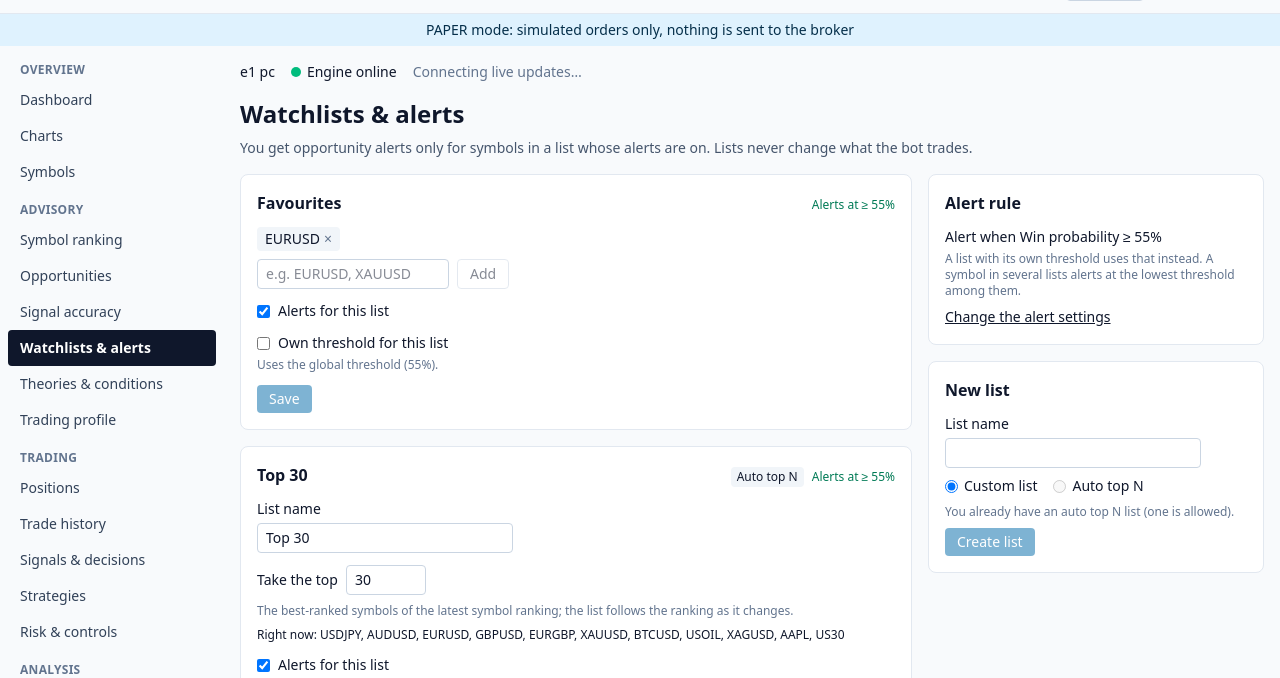
Test: watchlists page › creates a custom list and deletes a list after confirming
This screenshot has width=1280, height=678.
Check: the radio button labelled "Auto top N" is disabled, box left=1054, top=480, right=1066, bottom=492
Type "top 30" into the field labelled "List name" below "New list" at {"x": 1073, "y": 453}, box left=945, top=438, right=1201, bottom=468
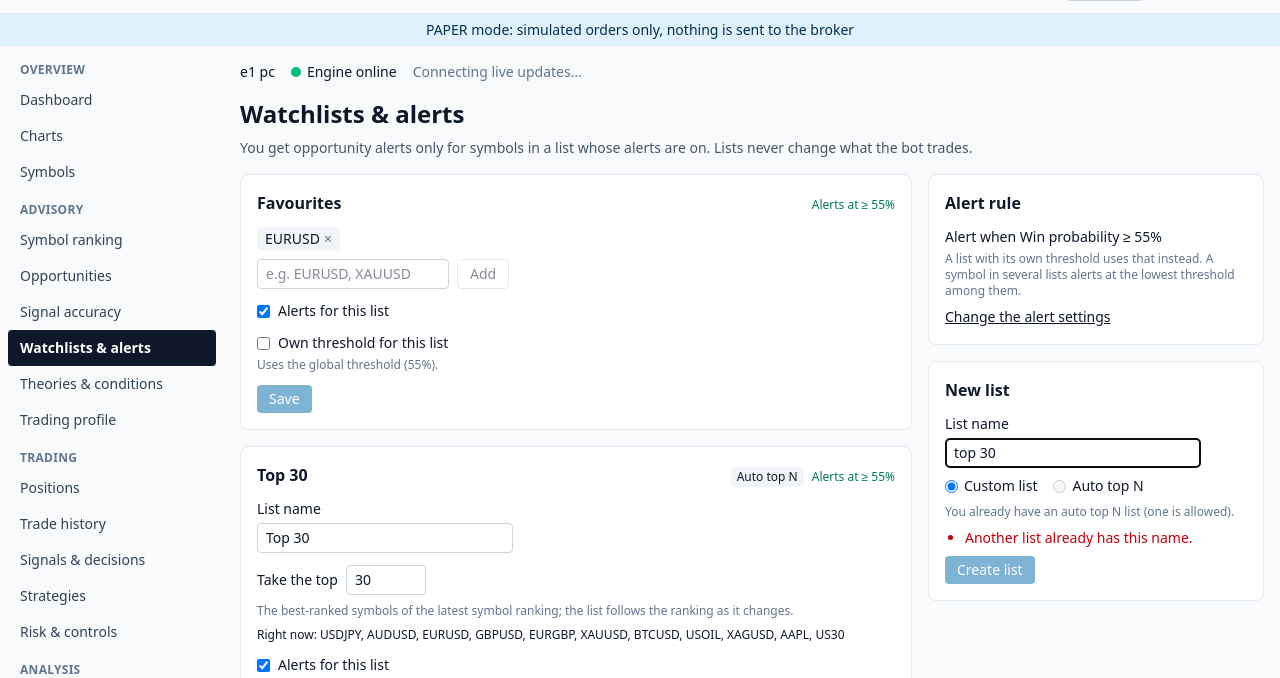
Check: the list item "Another list already has this name." is shown, box left=965, top=528, right=1193, bottom=547
Replace the text in the field labelled "List name" below "New list" with " Metals " at {"x": 1073, "y": 453}, box left=945, top=438, right=1201, bottom=468
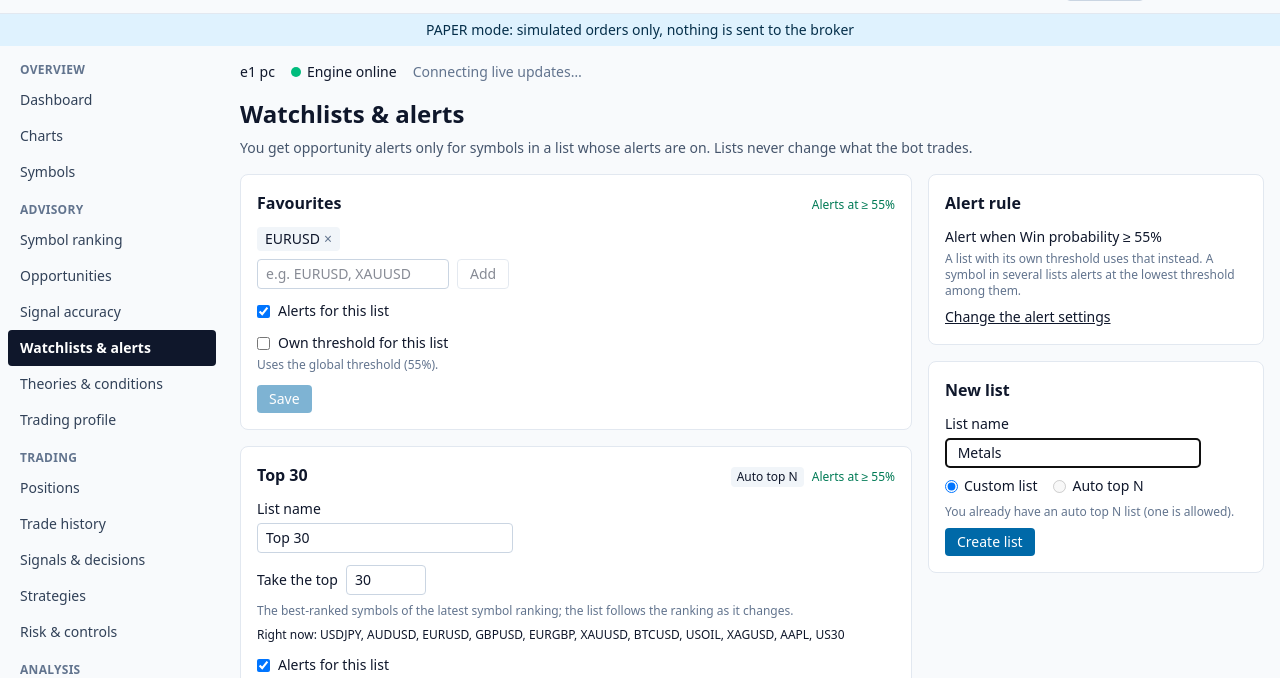
Click the button "Create list" at {"x": 990, "y": 542}, box left=945, top=528, right=1035, bottom=556
(page scrolled)
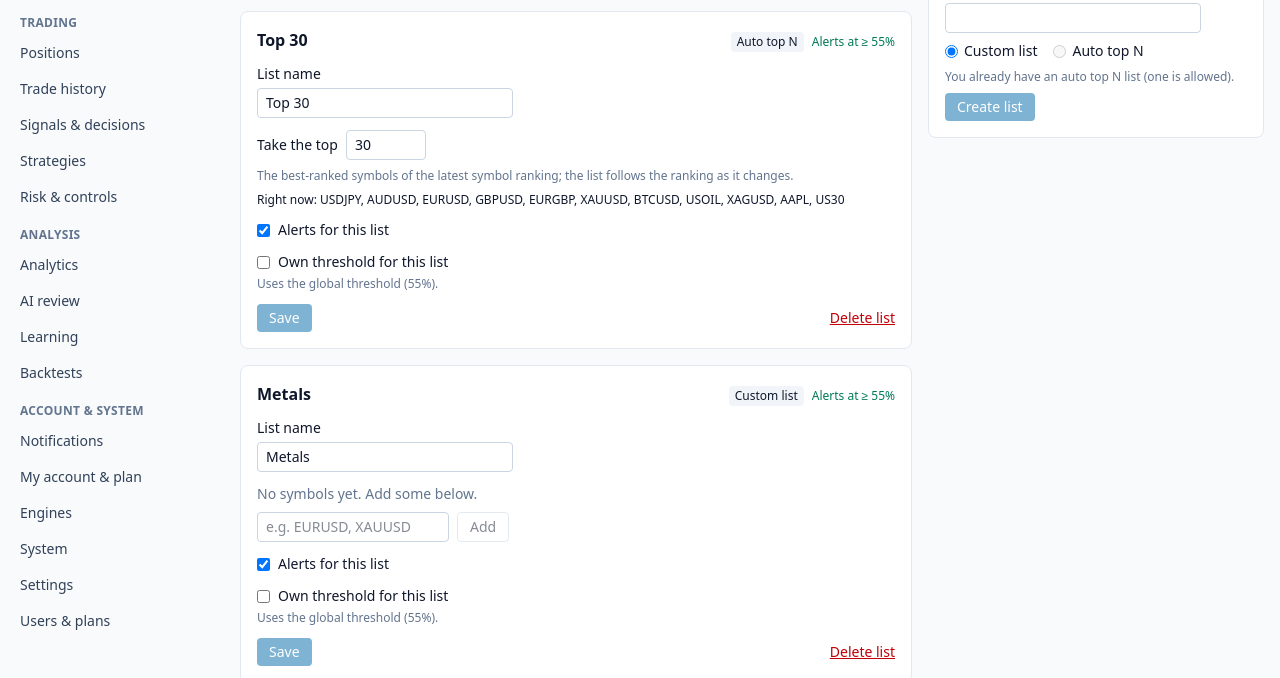
Click the 1st button "Delete list" at {"x": 862, "y": 318}, box left=830, top=308, right=895, bottom=328
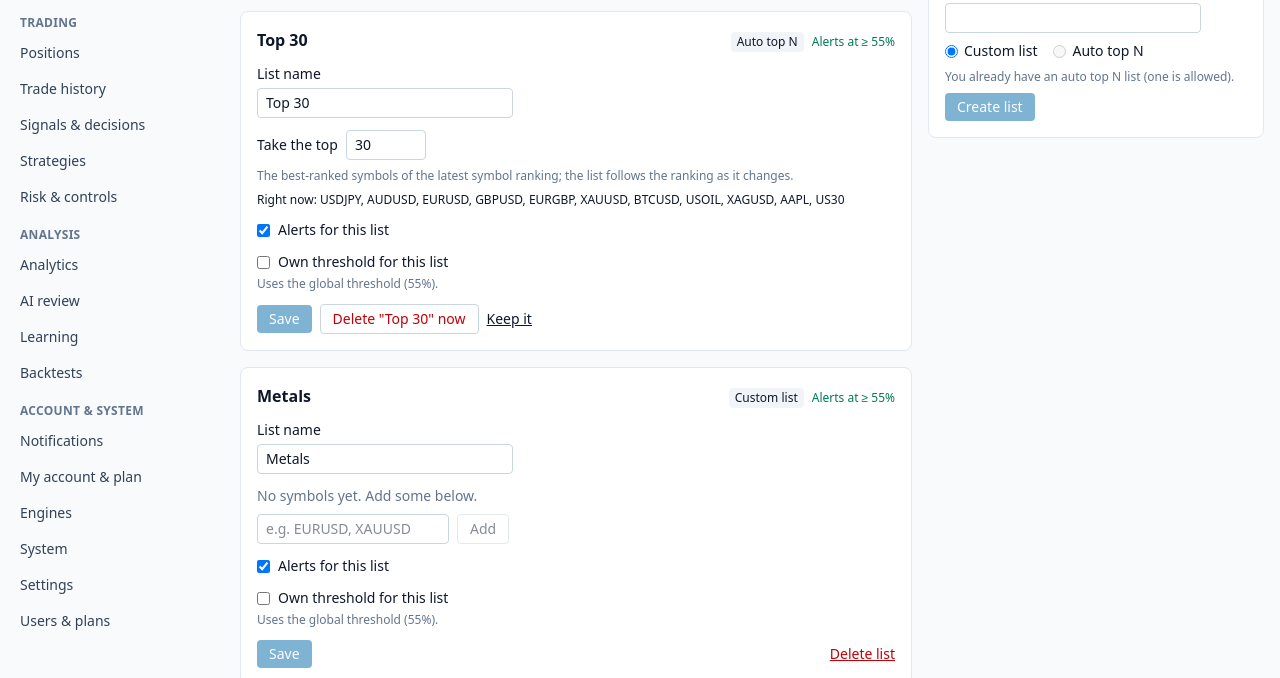
Click the button "Delete \"Top 30\" now" at {"x": 399, "y": 319}, box left=320, top=304, right=479, bottom=334
(page scrolled)
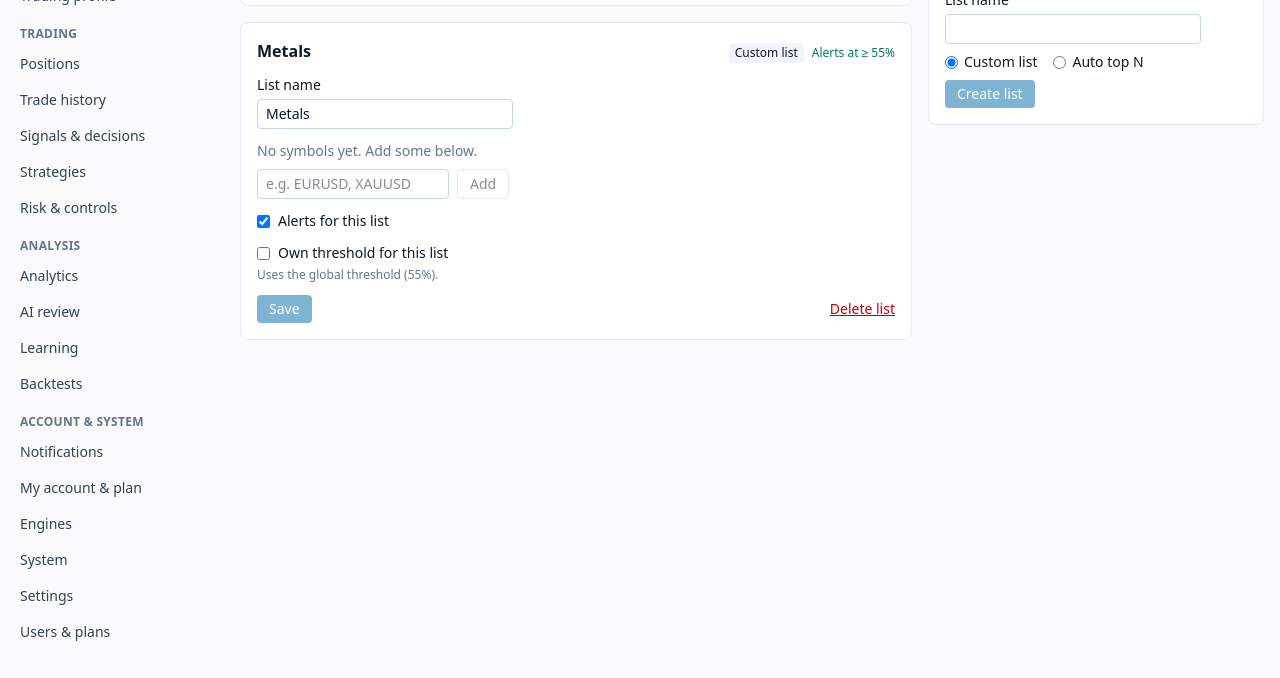
Check: the heading "Top 30" is gone
